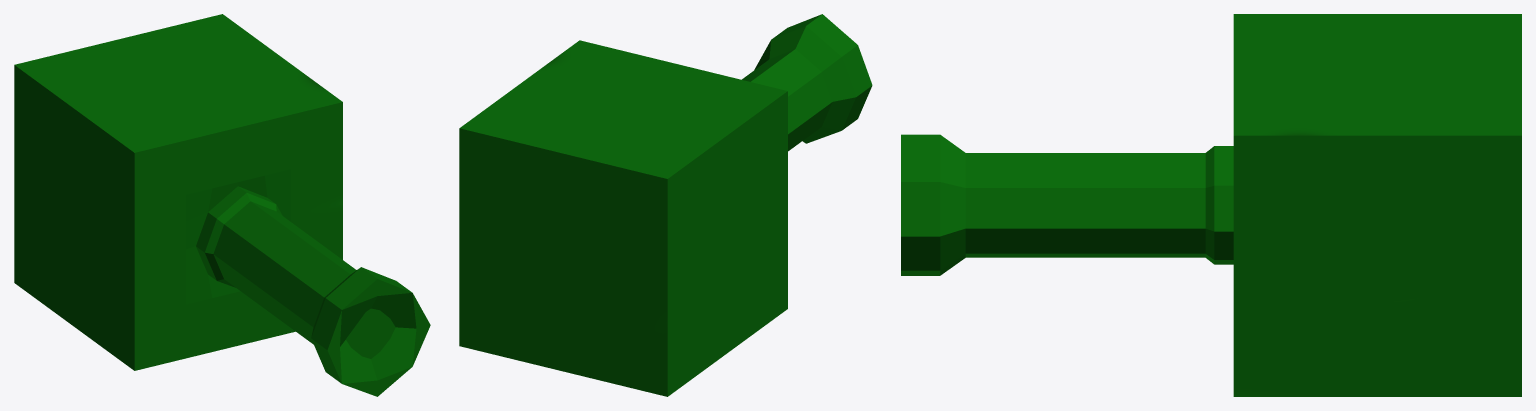
Rendered from tank_head.obj.
3 renders of one model, left to right at view 1: azimuth 30°, elevation 25°; view 2: azimuth 150°, elevation 25°; view 3: azimuth 270°, elevation 25°, orthographic. The views are drawn at different scales.
Visible parts, largest first — view 1: head_立方体; view 2: head_立方体; view 3: head_立方体.
Boxes of the visible parts, <box> form: head_立方体: <box>14,14,430,396</box>; head_立方体: <box>459,14,872,396</box>; head_立方体: <box>901,14,1521,396</box>.
Bounding box in the file's own units: 0.8728 × 0.8728 × 1.88.
1 material, 1 textured.
